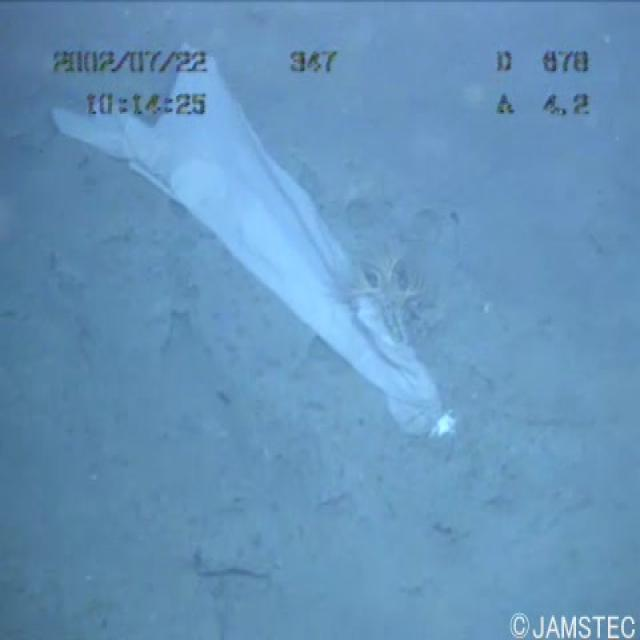plastic: (32, 27, 484, 471)
